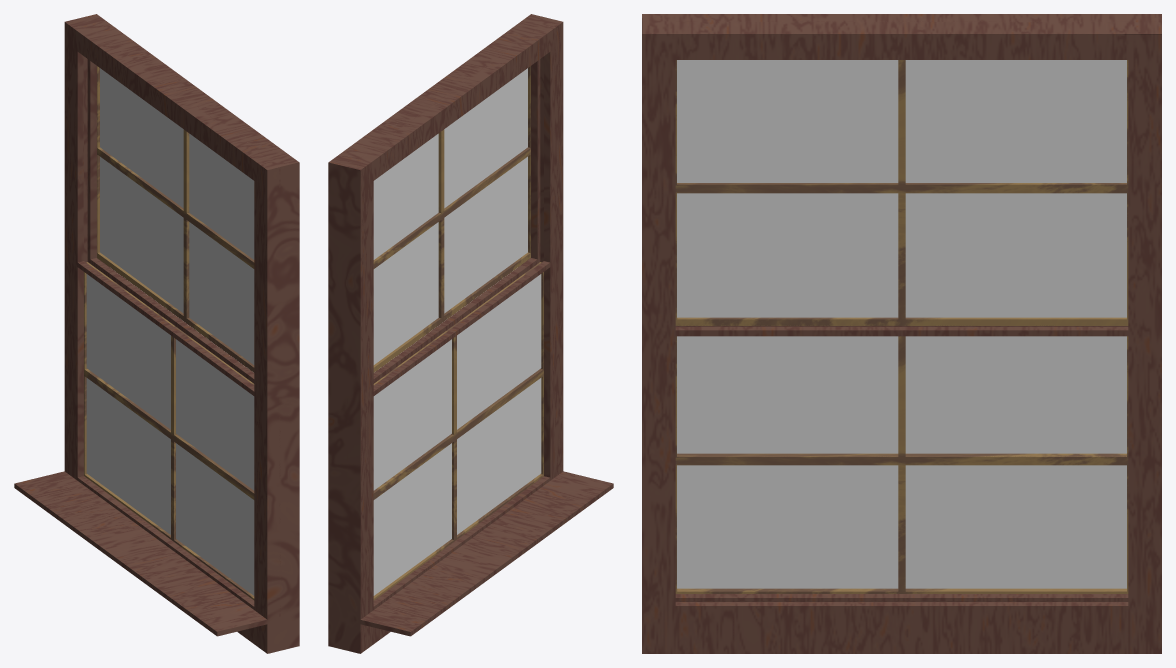
File: Window_fr.fbx
The picture shows the model from 3 angles, left to right: view 1: azimuth 30°, elevation 25°; view 2: azimuth 150°, elevation 25°; view 3: azimuth 270°, elevation 25°; orthographic projection. The views are drawn at different scales.
Parts seen in each view (by area): view 1: TheFrame, Glass, Glass.001, Frame.001, Frame; view 2: TheFrame, Glass, Glass.001, Frame.001, Frame; view 3: Glass.001, Glass, TheFrame, Frame.001, Frame.
Boxes of the visible parts, x1,y1,x2,y2 form: TheFrame: (14, 14, 299, 653); Glass: (86, 274, 254, 595); Glass.001: (100, 68, 254, 364); Frame.001: (97, 66, 254, 372); Frame: (84, 262, 254, 600); TheFrame: (328, 14, 613, 653); Glass: (373, 274, 541, 595); Glass.001: (373, 68, 527, 364); Frame.001: (373, 66, 530, 372); Frame: (373, 262, 543, 600); Glass.001: (677, 60, 1126, 317); Glass: (677, 336, 1126, 588); TheFrame: (642, 14, 1161, 653); Frame.001: (675, 60, 1128, 325); Frame: (675, 336, 1128, 593).
Bounding box in the file's own units: 158 × 885 × 673.
